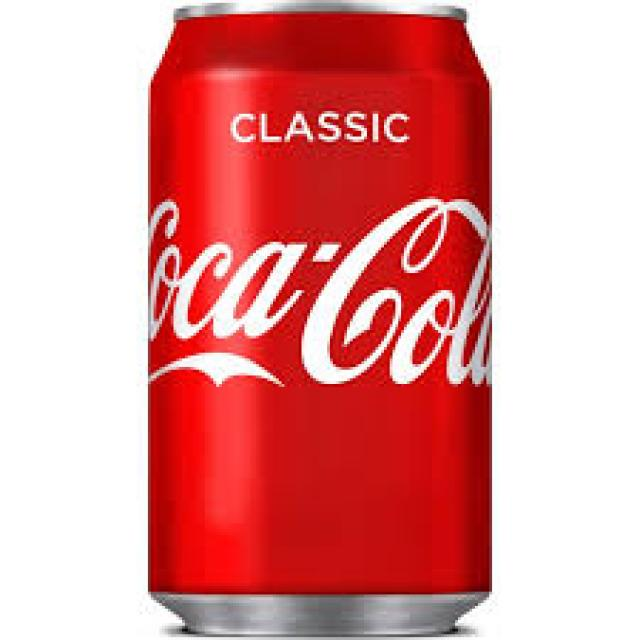aluminum_can: (151, 3, 492, 637)
